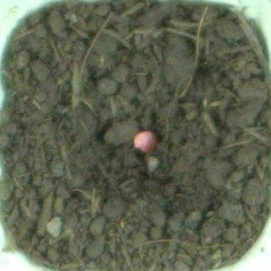pepper seed: (52, 51, 212, 206)
